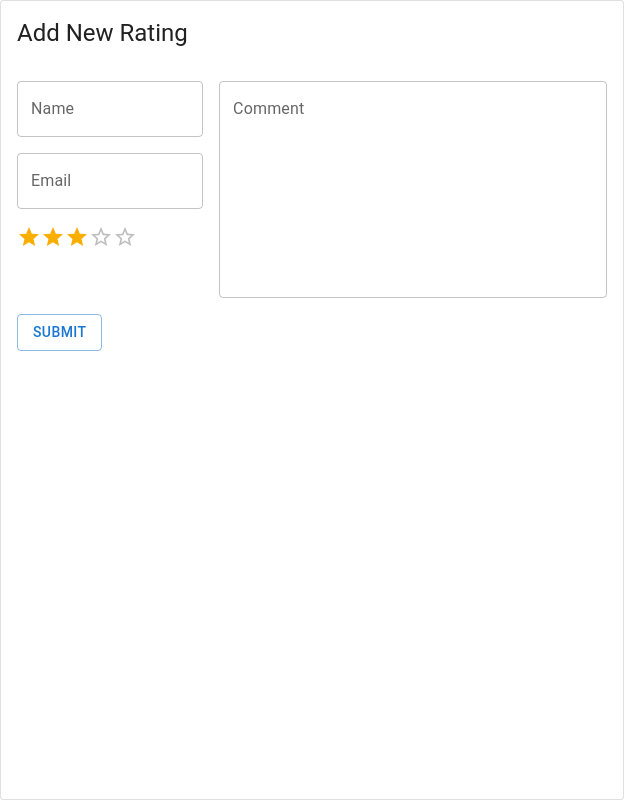
Scenario: New Rating Form › should correctly validate empty fields
Click the button with test id "new-comment-submit-button" at (60, 332), box [17, 314, 102, 350]
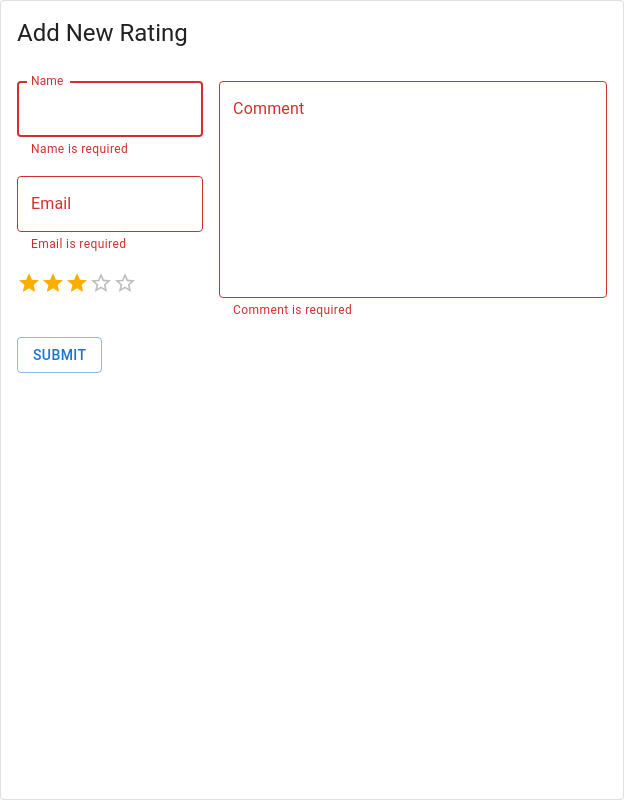
Check: the text "Name is required" is shown, box [31, 142, 128, 156]
Check: the text "Email is required" is shown, box [31, 237, 126, 251]
Check: the text "Comment is required" is shown, box [233, 303, 352, 317]
